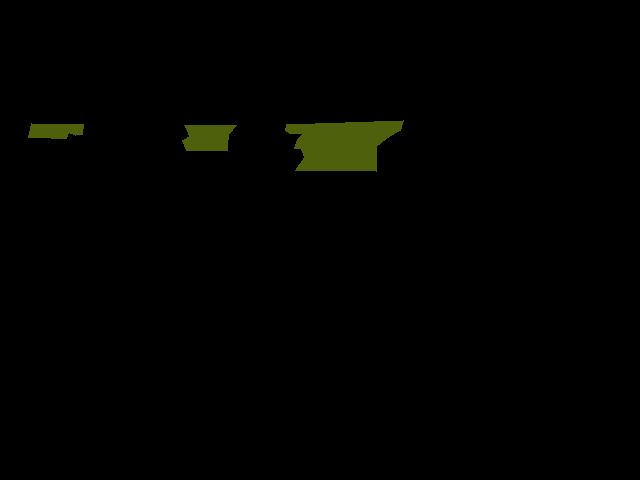Train: (28, 120, 403, 171)
